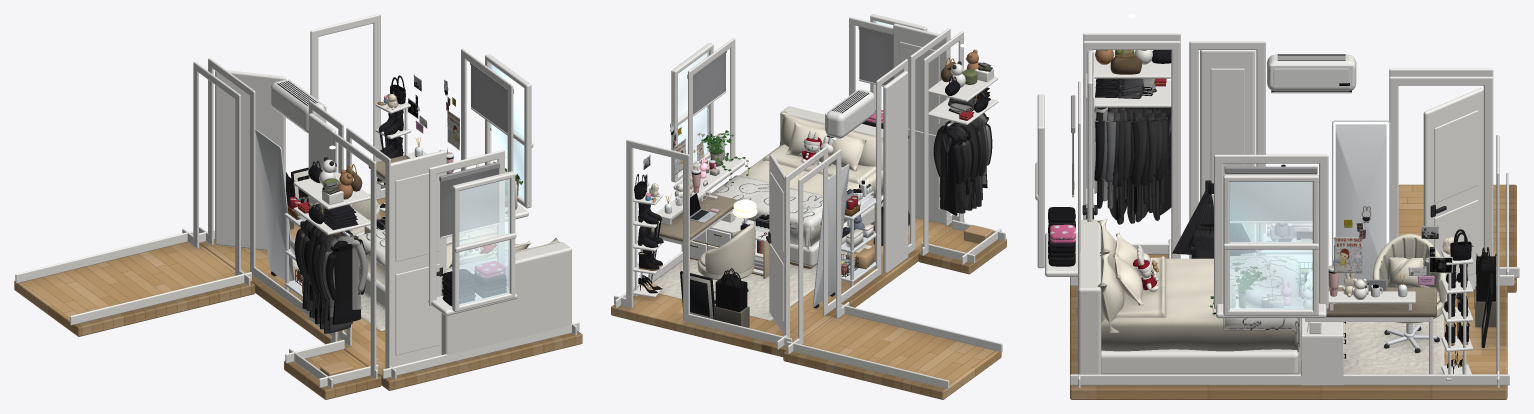
Rendered from bedroom-CDp0_48z.glb.
The picture shows the model from 3 angles, left to right: view 1: azimuth 30°, elevation 25°; view 2: azimuth 150°, elevation 25°; view 3: azimuth 270°, elevation 25°; orthographic projection. The views are drawn at different scales.
Visible parts, largest first — view 1: Floor_hallway-ew, Window_window-bedroom-south, Closet_Contents, Door_Closet, Bed, Door_Bedroom, Floor_bedroom, Window_window-bedroom-east, Standing_Mirror, Shade_window-bedroom-south, Casing_bedroom-door_1, Casing_bedroom-door_2 (+23 smaller); view 2: Floor_hallway-ew, Closet_Contents, Floor_bedroom, Door_Closet, Door_door-water-heater, Window_window-bedroom-east, Casing_bathroom-door_2, Bedroom_Floor_Clutter, Blanket_Bunny, Rug, Door_Bedroom, Pillows (+30 smaller); view 3: Window_window-bedroom-east, Closet_Contents, Floor_bedroom, Duvet, Door_Bedroom, Bed, Standing_Mirror, Door_door-water-heater, Wall_east_Base1, Rug, Shade_window-bedroom-east, Casing_bedroom-door_2 (+25 smaller).
Part boxes in pixels (x1=…): Floor_hallway-ew: x1=14, y1=242, x2=255, y2=336; Window_window-bedroom-south: x1=428, y1=150, x2=517, y2=315; Closet_Contents: x1=293, y1=145, x2=370, y2=376; Door_Closet: x1=391, y1=150, x2=446, y2=367; Bed: x1=364, y1=242, x2=571, y2=355; Door_Bedroom: x1=215, y1=70, x2=285, y2=250; Floor_bedroom: x1=199, y1=198, x2=582, y2=390; Window_window-bedroom-east: x1=461, y1=48, x2=533, y2=221; Standing_Mirror: x1=255, y1=129, x2=295, y2=281; Shade_window-bedroom-south: x1=439, y1=162, x2=499, y2=238; Casing_bedroom-door_1: x1=193, y1=61, x2=240, y2=275; Casing_bedroom-door_2: x1=208, y1=58, x2=255, y2=274; Floor_hallway-ew: x1=783, y1=314, x2=1001, y2=399; Closet_Contents: x1=928, y1=44, x2=998, y2=243; Floor_bedroom: x1=611, y1=217, x2=952, y2=357; Door_Closet: x1=893, y1=23, x2=948, y2=224; Door_door-water-heater: x1=883, y1=71, x2=908, y2=273; Window_window-bedroom-east: x1=670, y1=38, x2=744, y2=192; Casing_bathroom-door_2: x1=626, y1=139, x2=689, y2=320; Bedroom_Floor_Clutter: x1=680, y1=268, x2=749, y2=327; Blanket_Bunny: x1=711, y1=175, x2=822, y2=249; Rug: x1=652, y1=244, x2=872, y2=320; Door_Bedroom: x1=766, y1=154, x2=785, y2=335; Pillows: x1=779, y1=111, x2=883, y2=180; Window_window-bedroom-east: x1=1214, y1=154, x2=1328, y2=318; Closet_Contents: x1=1092, y1=14, x2=1171, y2=224; Floor_bedroom: x1=1070, y1=285, x2=1507, y2=399; Duvet: x1=1101, y1=256, x2=1297, y2=351; Door_Bedroom: x1=1423, y1=88, x2=1483, y2=302; Bed: x1=1078, y1=220, x2=1298, y2=374; Standing_Mirror: x1=1332, y1=120, x2=1390, y2=287; Door_door-water-heater: x1=1200, y1=50, x2=1255, y2=255; Wall_east_Base1: x1=1070, y1=374, x2=1509, y2=385; Rug: x1=1297, y1=313, x2=1444, y2=374; Shade_window-bedroom-east: x1=1224, y1=166, x2=1317, y2=229; Casing_bedroom-door_2: x1=1389, y1=76, x2=1493, y2=256.
Size of the model in its own units: 4.85 by 2.72 by 4.56.
Materials: 301 (77 with a texture image).
